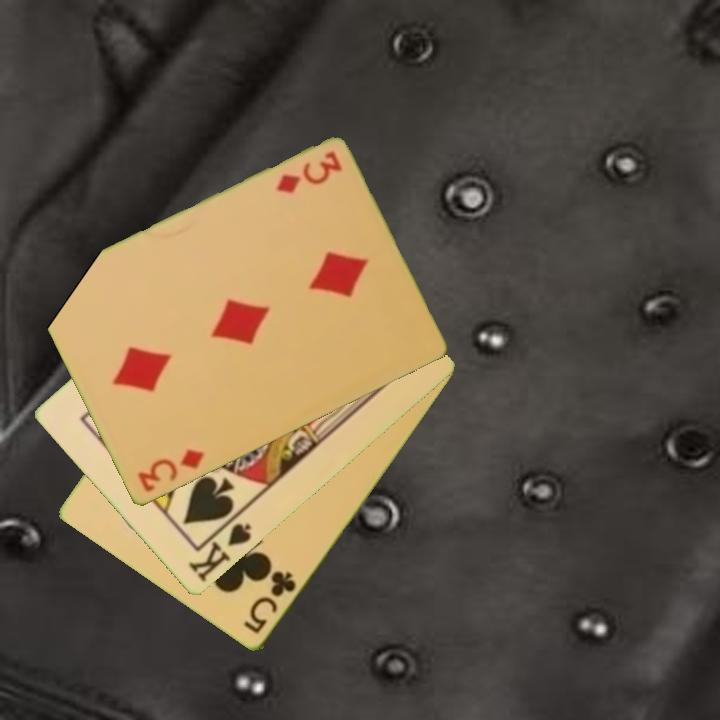3d: (134, 445, 207, 496), (272, 148, 345, 197)
5c: (240, 568, 300, 638)
Ks: (184, 520, 255, 586)
